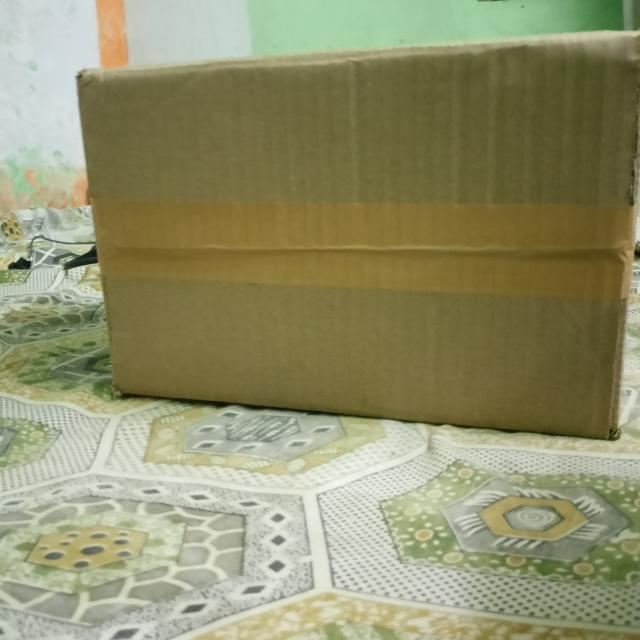box: (82, 39, 640, 437)
